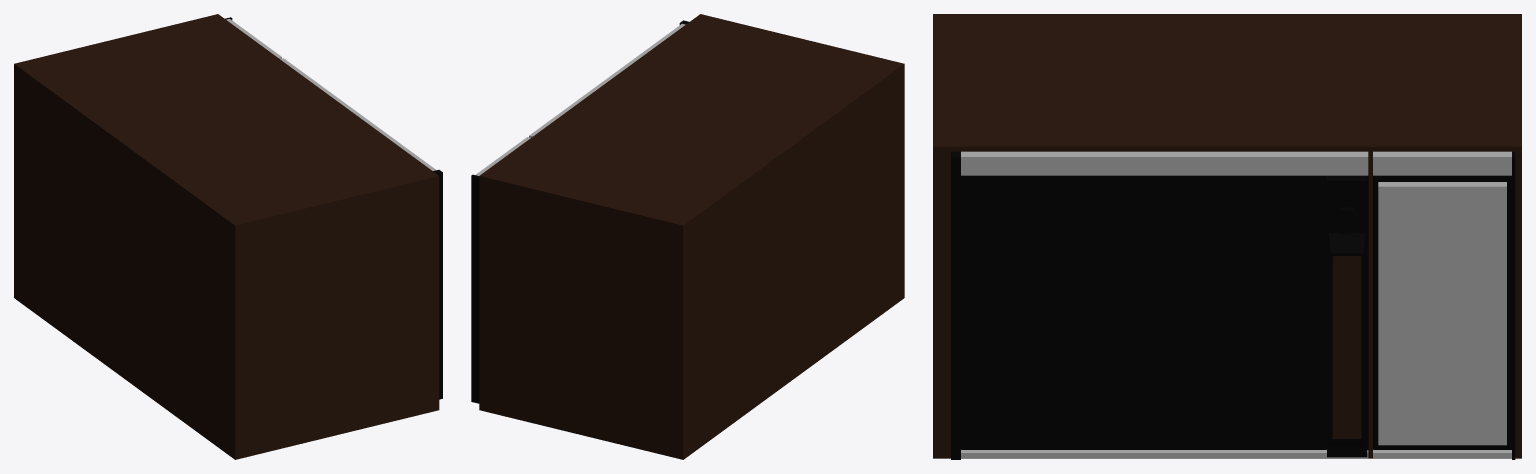
The model's file is MicroWave.fbx.
3 views of the same model, side by side, from view 1: azimuth 30°, elevation 25°; view 2: azimuth 150°, elevation 25°; view 3: azimuth 270°, elevation 25° (orthographic). The views are drawn at different scales.
Parts seen in each view (by area): view 1: Microwave, FrontSide, FrontBody; view 2: Microwave, FrontSide.001, FrontBody; view 3: Front2, Microwave, Button, FrontBody, Handle.002, FrontBody2, Front2.001, Handle, FrontSide, Handle.001, FrontSide.001.
Part boxes in pixels (x1,y1,x2,y2): Microwave: (14, 14, 439, 459); FrontSide: (433, 169, 442, 399); FrontBody: (280, 58, 436, 170); Microwave: (479, 14, 904, 459); FrontSide.001: (471, 174, 479, 403); FrontBody: (529, 23, 685, 137); Front2: (961, 170, 1368, 449); Microwave: (933, 14, 1521, 458); Button: (1378, 182, 1506, 445); FrontBody: (961, 151, 1368, 458); Handle.002: (1332, 256, 1361, 438); FrontBody2: (1373, 151, 1511, 458); Front2.001: (1373, 175, 1511, 449); Handle: (1327, 175, 1367, 457); FrontSide: (951, 151, 960, 459); Handle.001: (1328, 232, 1365, 446); FrontSide.001: (1512, 151, 1515, 459).
Size of the model in its own units: 207 by 200 by 342.
